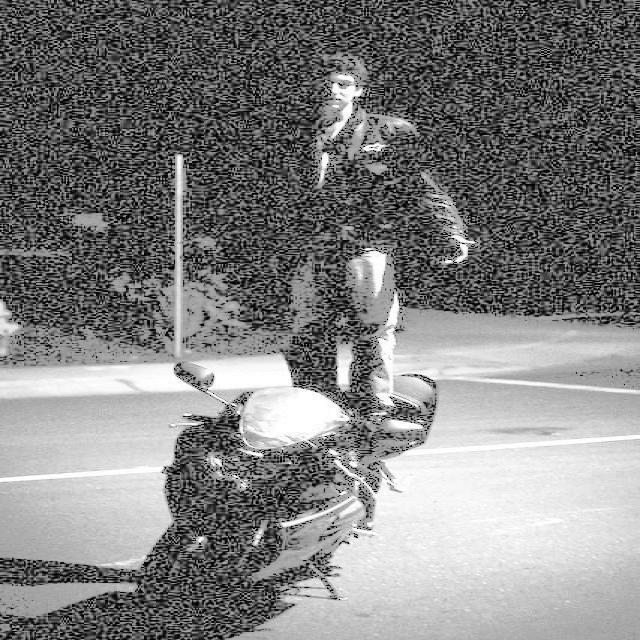Motorcycle: (85, 362, 499, 640)
Person: (257, 57, 505, 371)
